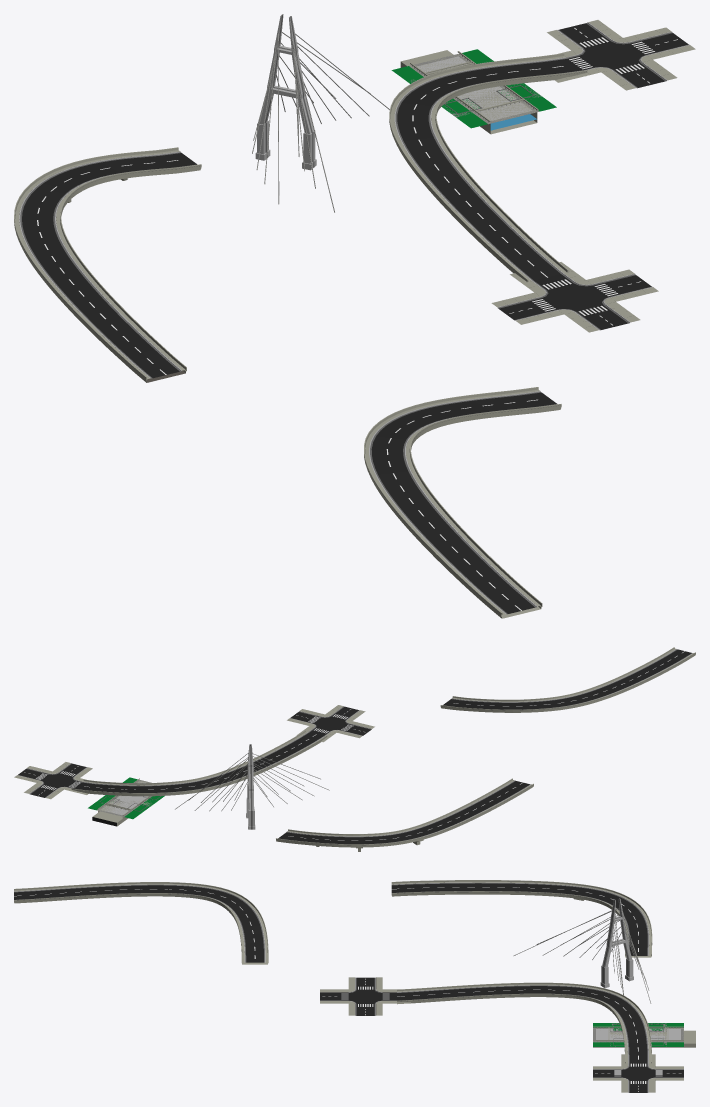
Rendered from Bridges.fbx.
3 renders of one model, top to bottom at view 1: azimuth 30°, elevation 25°; view 2: azimuth 150°, elevation 25°; view 3: azimuth 270°, elevation 25°, orthographic. The views are drawn at different scales.
Visible parts, largest first — view 1: Bridge-Array, Bridge-2-3, Bridge-2-3-B, object-01.001, object-01, Bridge-2-3-BP, River-01-B, Pavement-64, Pavement-64-Colider, River-park-01; view 2: Bridge-2-3, Bridge-Array, Bridge-2-3-B, object-01.001, object-01, Bridge-2-3-BP, Pavement-64, River-01-A, River-01-B; view 3: Bridge-Array, Bridge-2-3-B, Bridge-2-3, Bridge-2-3-BP, object-01.001, object-01, River-01-B, Pavement-64, River-park-01.
Boxes of the visible parts, box(x1,y1,x2,y2) form: Bridge-Array: box(364, 387, 561, 618); Bridge-2-3: box(14, 147, 201, 382); Bridge-2-3-B: box(389, 53, 587, 281); object-01.001: box(491, 262, 658, 332); object-01: box(547, 20, 695, 90); Bridge-2-3-BP: box(252, 14, 389, 212); River-01-B: box(391, 49, 556, 134); Pavement-64: box(409, 53, 539, 123); Pavement-64-Colider: box(413, 54, 538, 123); River-park-01: box(392, 49, 555, 133); Bridge-2-3: box(276, 778, 533, 851); Bridge-Array: box(440, 647, 695, 712); Bridge-2-3-B: box(71, 730, 327, 796); object-01.001: box(287, 705, 374, 742); object-01: box(14, 762, 92, 799); Bridge-2-3-BP: box(175, 744, 329, 829); Pavement-64: box(97, 780, 151, 816); River-01-A: box(92, 795, 153, 826); River-01-B: box(89, 777, 162, 821); Bridge-Array: box(14, 882, 268, 964); Bridge-2-3-B: box(397, 982, 651, 1063); Bridge-2-3: box(391, 880, 652, 957); Bridge-2-3-BP: box(513, 898, 651, 1003); object-01.001: box(320, 977, 410, 1015); object-01: box(593, 1054, 683, 1092); River-01-B: box(593, 1023, 683, 1047); Pavement-64: box(593, 1028, 683, 1042); River-park-01: box(593, 1023, 683, 1047).
Size of what is drawn, in the model's own units: 349 by 65.51 by 480.
